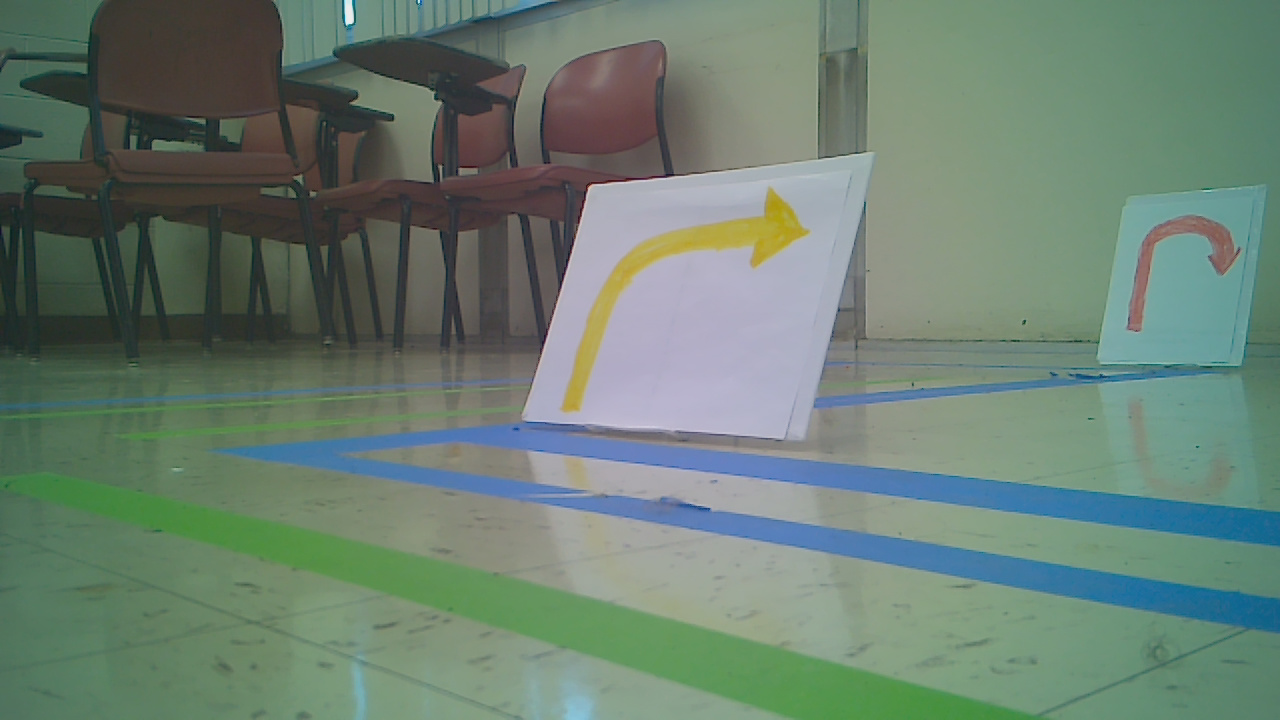greenline: (10, 473, 1034, 720)
right: (563, 184, 812, 412)
uturn: (1123, 213, 1241, 335)
